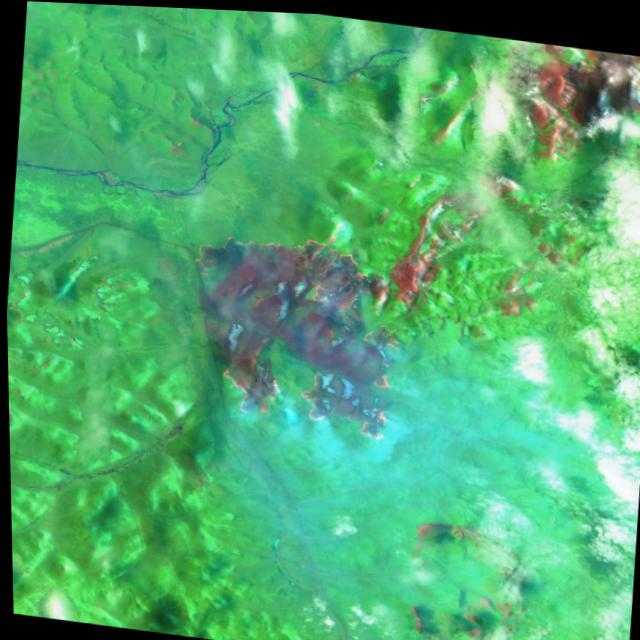fire: (176, 215, 418, 446)
